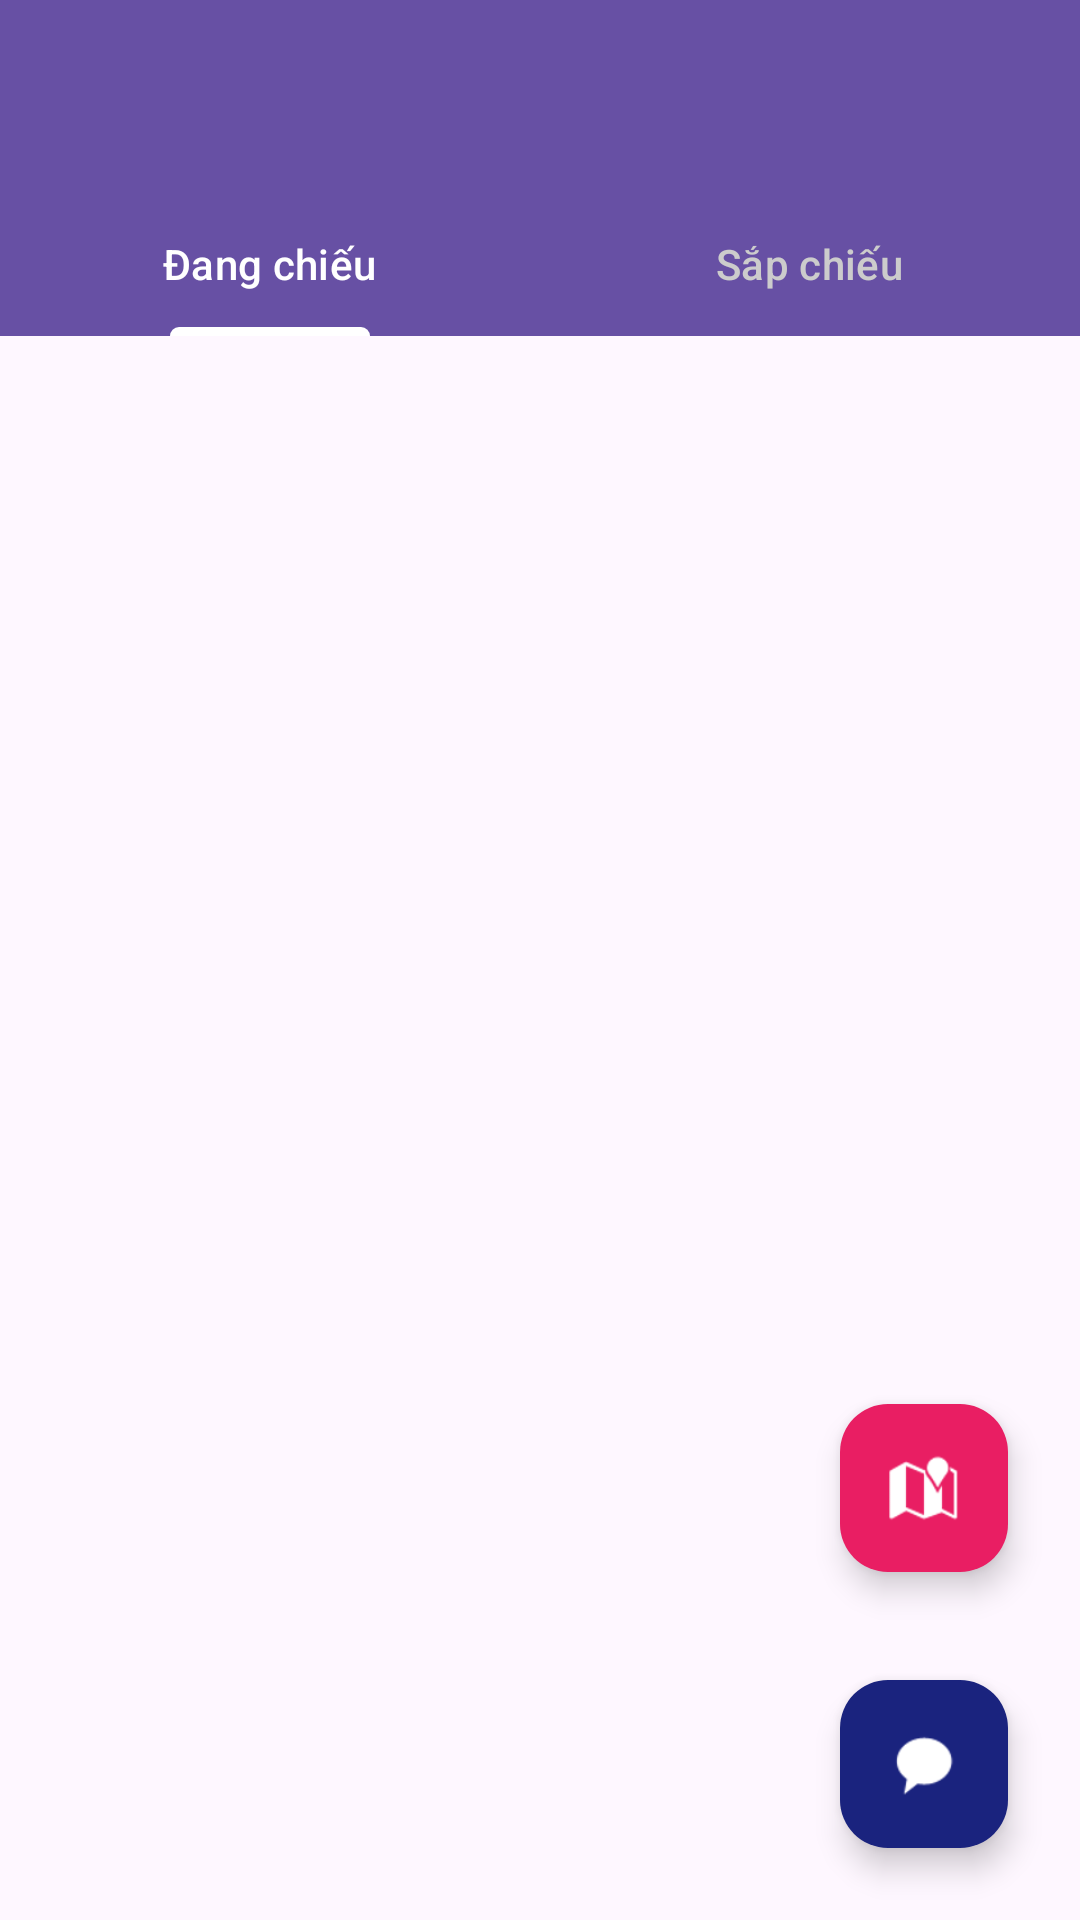

Point at icon controls on the screen. Image size 1080x1920, points as (x,y).
Chat với trợ lý: (924,1764)
Xem vị trí rạp chiếu phim: (924,1488)
